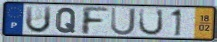1: (169, 9, 183, 37)
F: (80, 5, 111, 36)
Q: (54, 7, 78, 34)
U: (24, 5, 53, 35), (110, 7, 137, 37), (138, 8, 165, 37)
